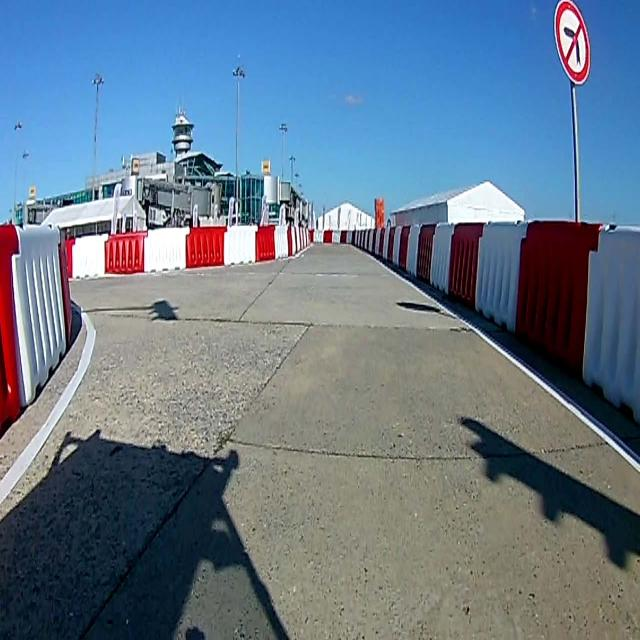soladonulmez: (554, 3, 592, 82)
